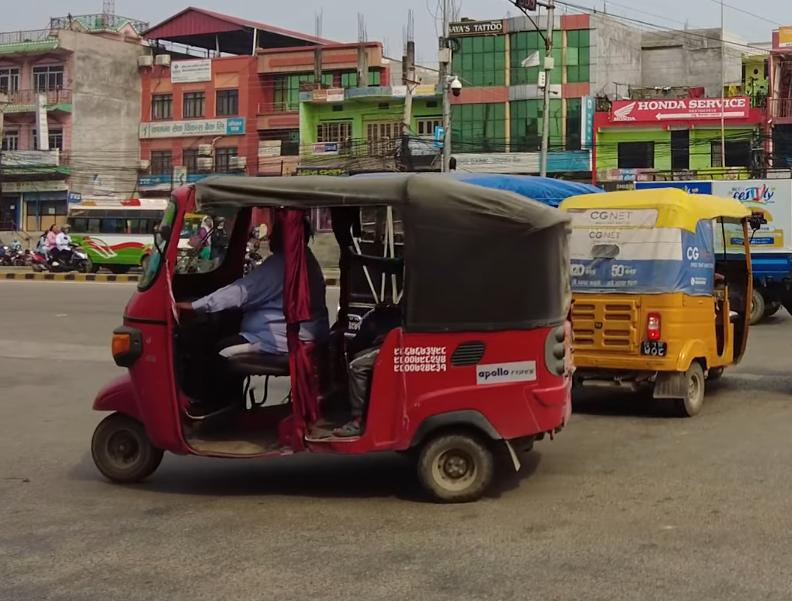auto_rickshaw: (82, 165, 576, 505), (548, 184, 765, 423)
bus: (57, 197, 166, 277)
scooter: (47, 236, 95, 274)
